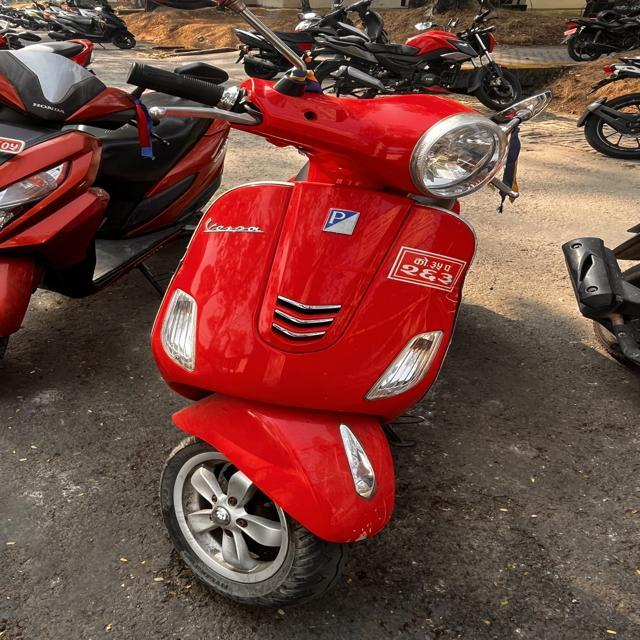license_plate: (375, 238, 485, 294)
